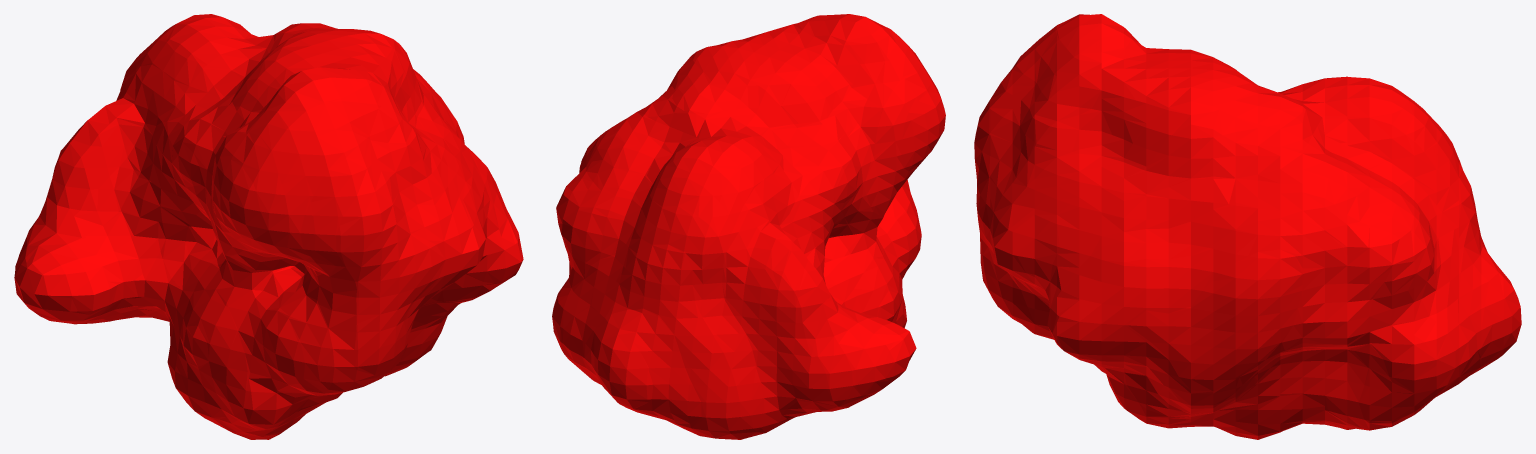
Rendered from yfcH_coarse.dae.
3 renders of one model, left to right at view 1: azimuth 30°, elevation 25°; view 2: azimuth 150°, elevation 25°; view 3: azimuth 270°, elevation 25°, orthographic. The views are drawn at different scales.
Visible parts, largest first — view 1: yfcH; view 2: yfcH; view 3: yfcH.
Boxes of the visible parts, <box> form: yfcH: <box>14,14,523,439</box>; yfcH: <box>552,14,945,439</box>; yfcH: <box>974,14,1521,439</box>.
Bounding box in the file's own units: 53.02 × 50.01 × 61.88.
